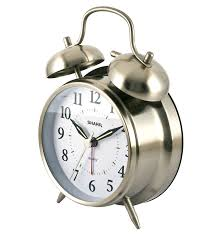alarm_clock: (35, 3, 184, 229), (41, 3, 184, 229)
